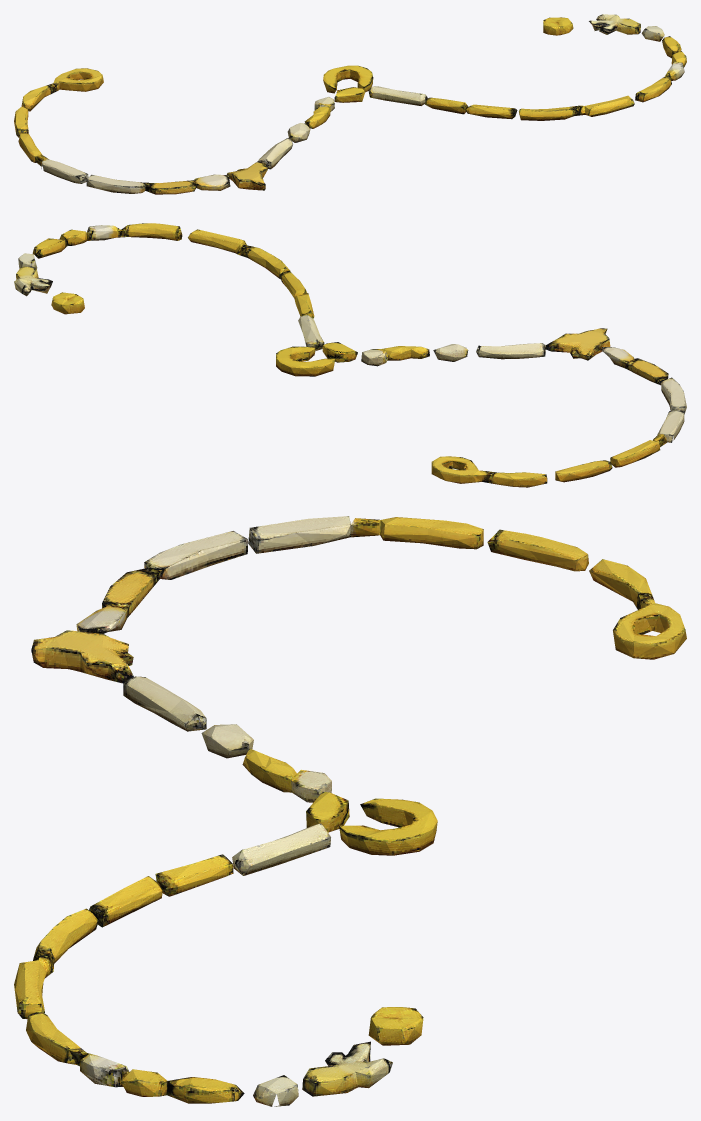
File: COMMON_사물_map_path_line.glb
The picture shows the model from 3 angles, top to bottom: view 1: azimuth 30°, elevation 25°; view 2: azimuth 150°, elevation 25°; view 3: azimuth 270°, elevation 25°; orthographic projection. The views are drawn at different scales.
Parts seen in each view (by area): view 1: world; view 2: world; view 3: world.
Part boxes in pixels (x1,y1,x2,y2): world: (14, 14, 686, 194); world: (14, 223, 686, 487); world: (14, 516, 686, 1106).
Size of the model in its own units: 1 by 0.0214 by 0.4937.
Materials: 1 (1 with a texture image).
